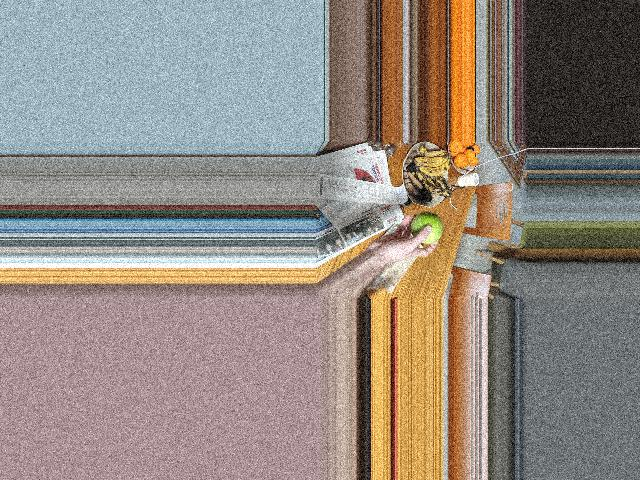apple: (408, 211, 446, 243)
